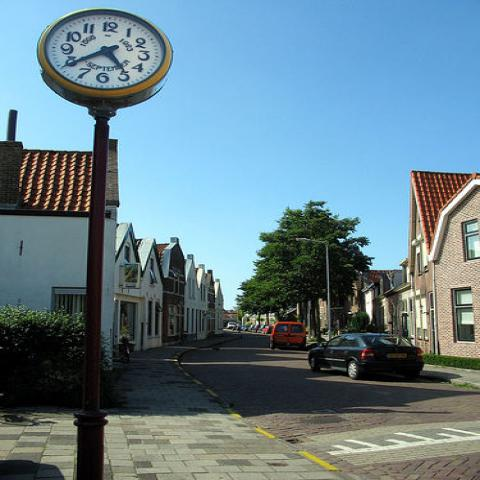car: (306, 333, 425, 379), (270, 323, 306, 346), (261, 326, 274, 335), (256, 324, 267, 332), (251, 324, 259, 333)
